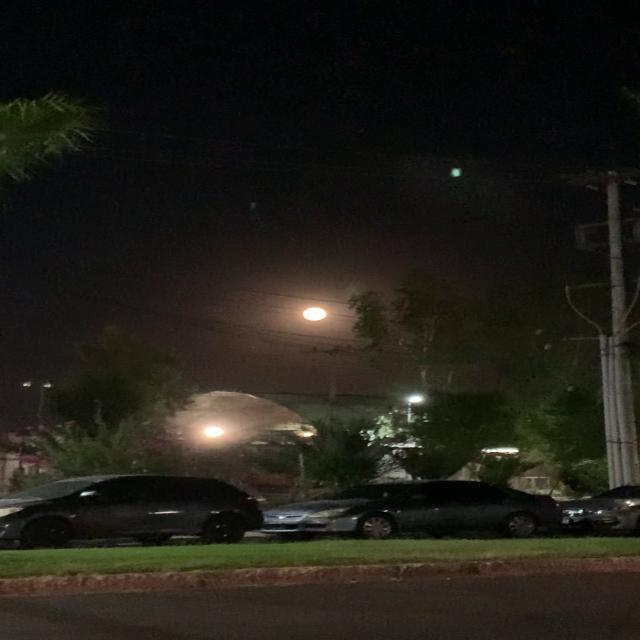moon: (298, 304, 329, 322)
